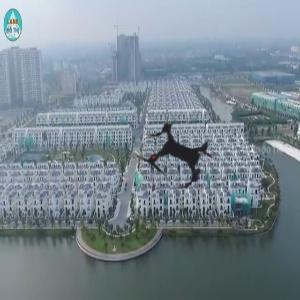drone: (113, 95, 239, 221)
